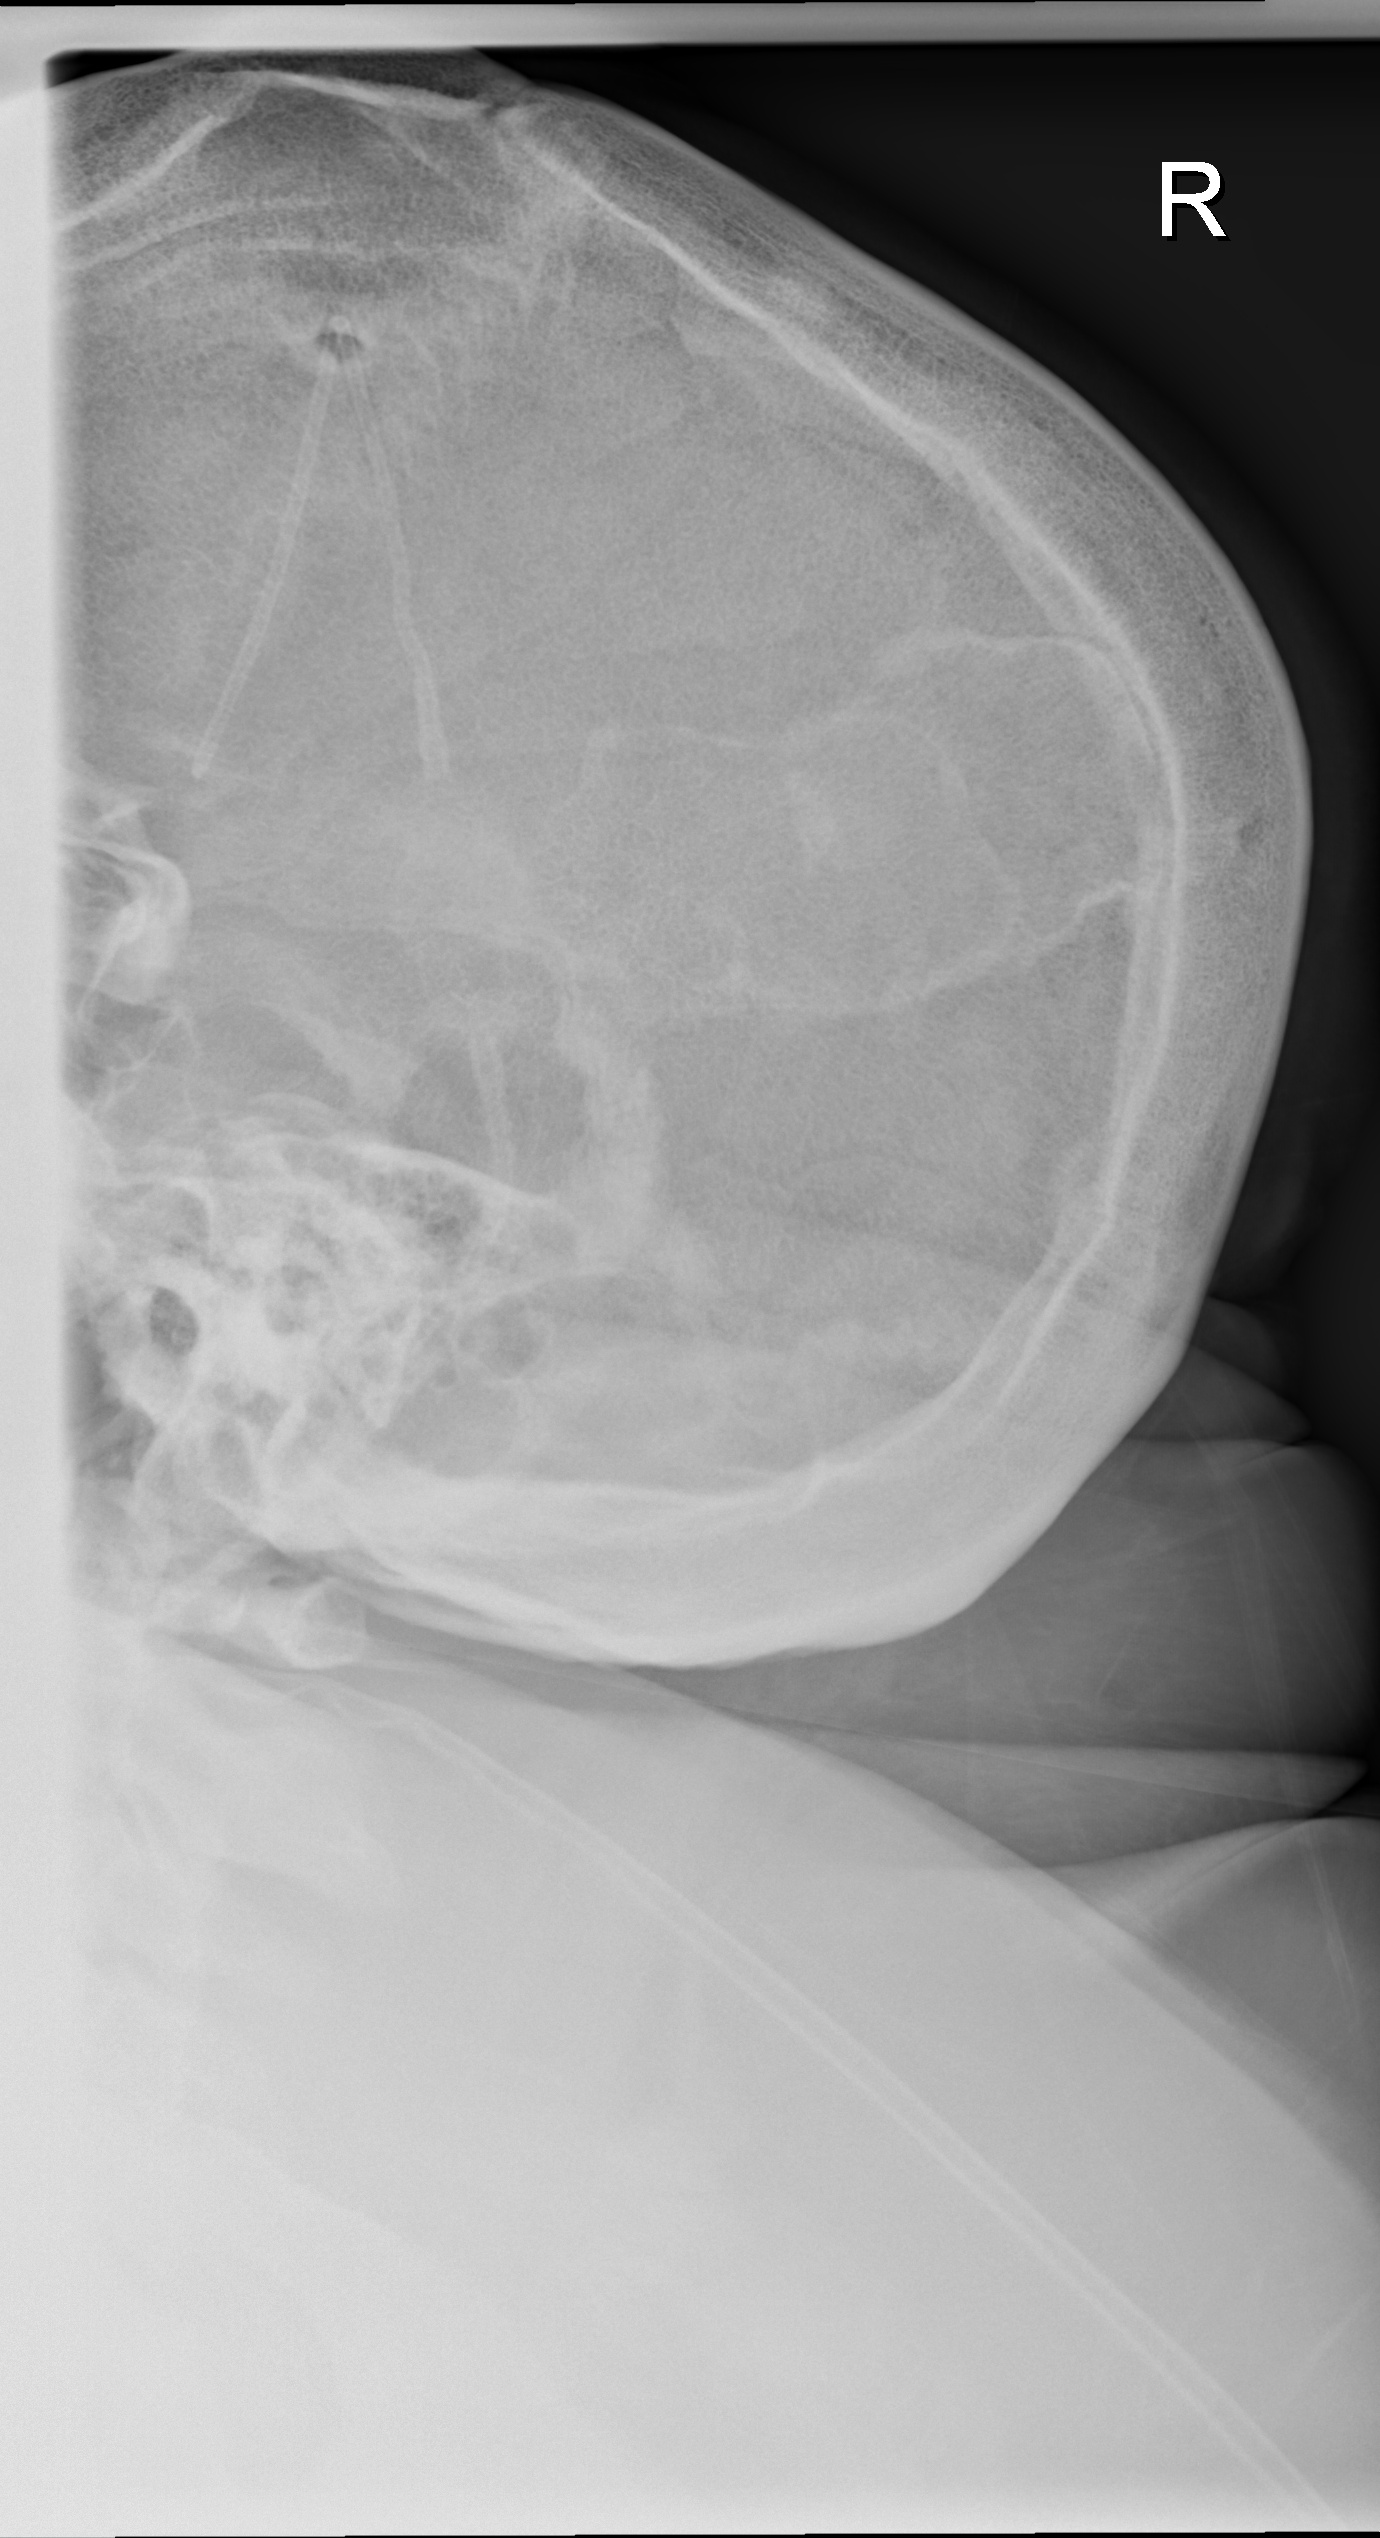Codman Uni-Shunt: (376, 773, 547, 1057)
